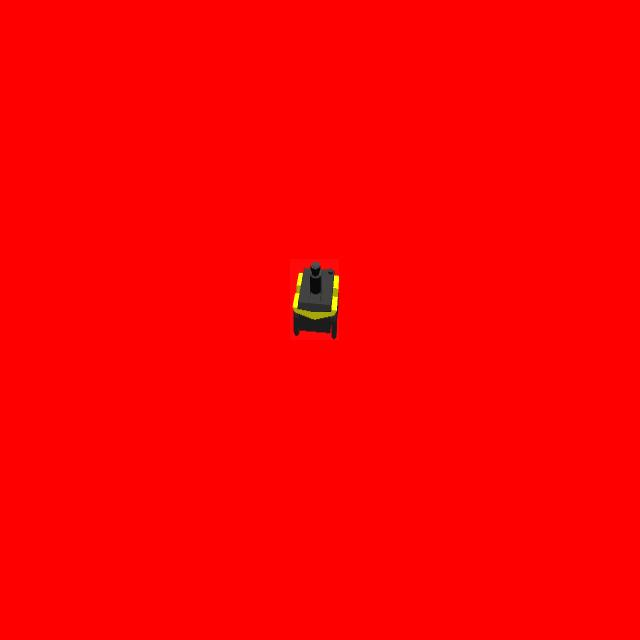jackal: (290, 259, 339, 340)
